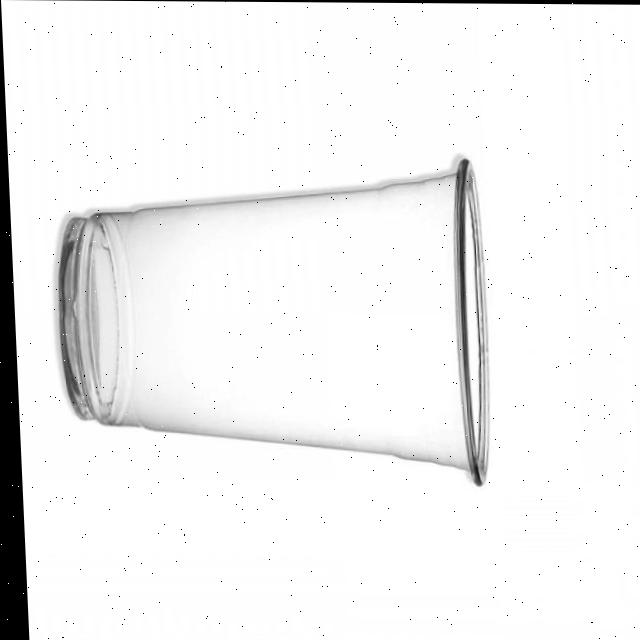cup: (36, 135, 504, 495)
